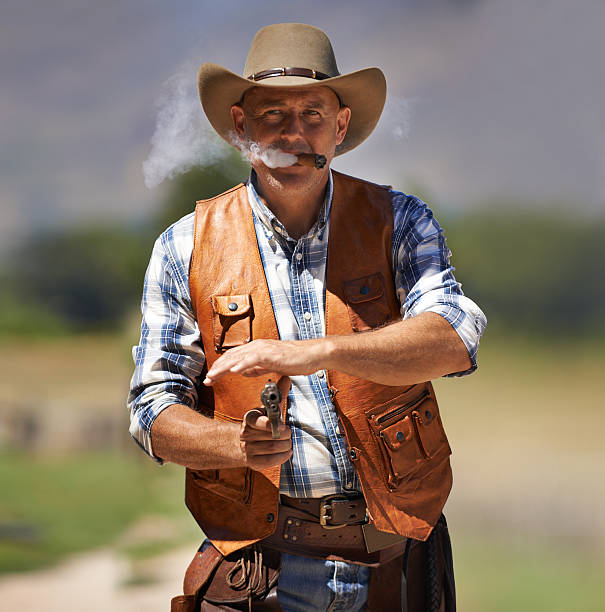gun: (259, 380, 282, 440)
